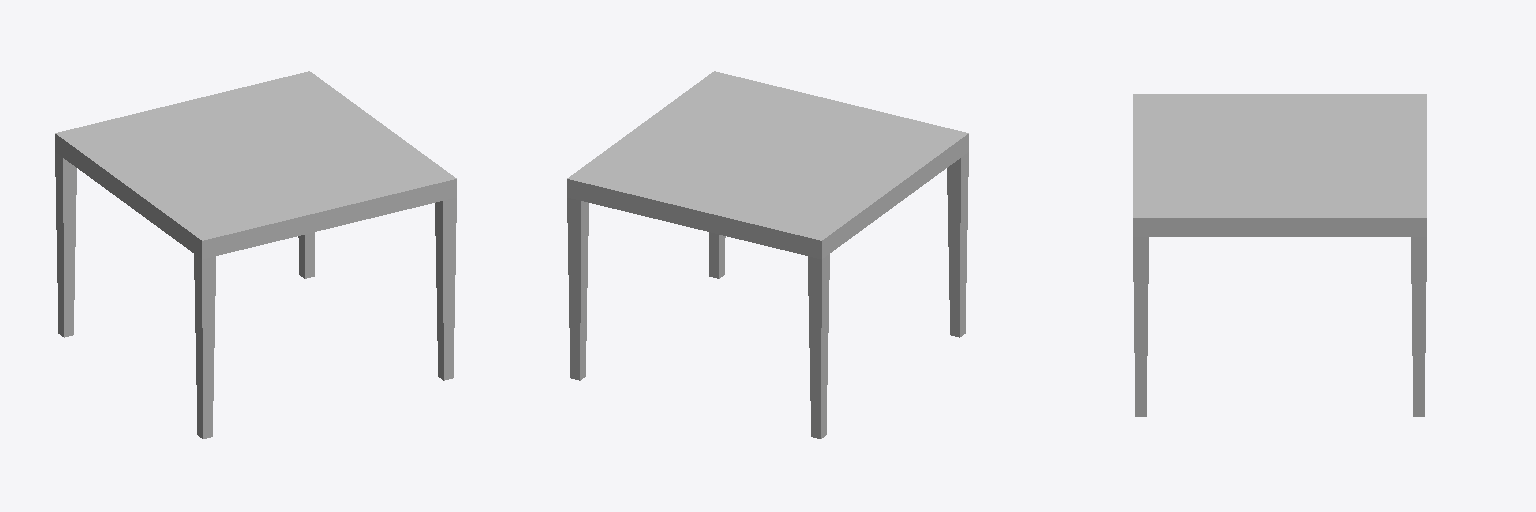
File: Table1.obj
3 views of the same model, side by side, from view 1: azimuth 30°, elevation 25°; view 2: azimuth 150°, elevation 25°; view 3: azimuth 270°, elevation 25° (orthographic).
Parts seen in each view (by area): view 1: Table1; view 2: Table1; view 3: Table1.
Boxes of the visible parts, <box> form: Table1: <box>55,71,456,438</box>; Table1: <box>567,71,968,438</box>; Table1: <box>1133,94,1426,416</box>.
Size of the model in its own units: 1000 by 750 by 1000.